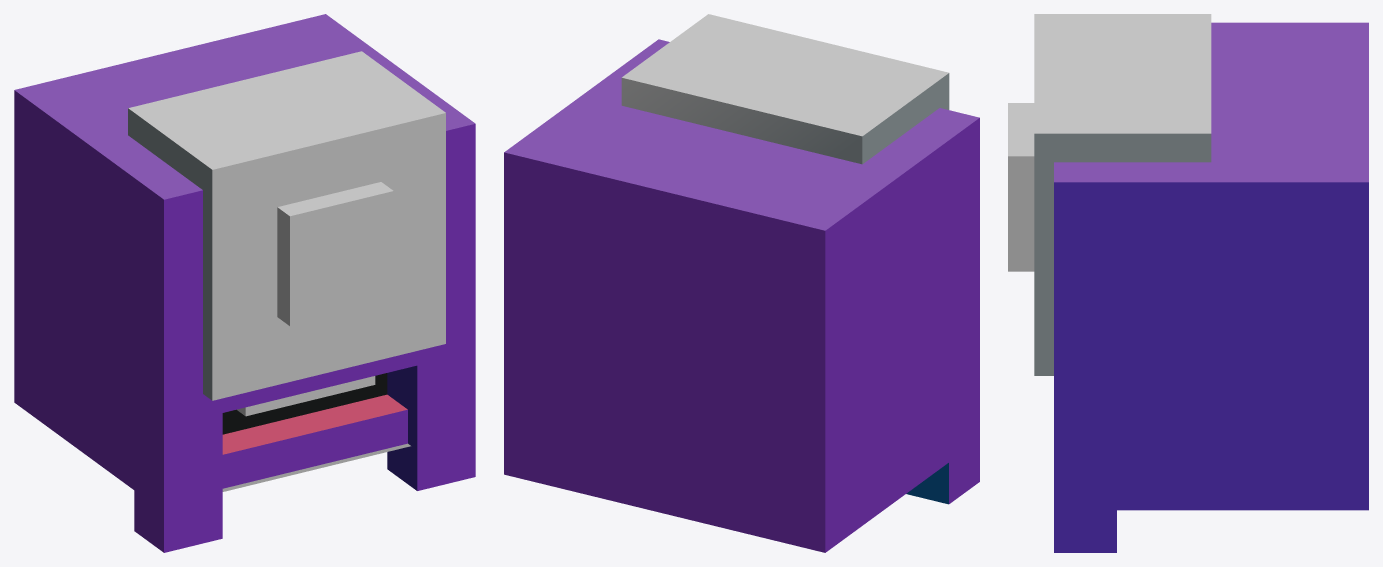
Rendered from EN_SneakyBit_Purple.fbx.
3 views of the same model, side by side, from view 1: azimuth 30°, elevation 25°; view 2: azimuth 150°, elevation 25°; view 3: azimuth 270°, elevation 25° (orthographic). The views are drawn at different scales.
Visible parts, largest first — view 1: Body, Eye, Pupil, Mouth, Shadow; view 2: Body, Eye; view 3: Body, Eye, Pupil.
Part boxes in pixels (bbox=[...]): Body: bbox=[14, 14, 475, 552]; Eye: bbox=[128, 51, 445, 400]; Pupil: bbox=[277, 182, 393, 325]; Mouth: bbox=[222, 394, 407, 488]; Shadow: bbox=[222, 443, 410, 491]; Body: bbox=[504, 39, 979, 552]; Eye: bbox=[621, 14, 949, 164]; Body: bbox=[1054, 22, 1368, 552]; Eye: bbox=[1034, 14, 1211, 375]; Pupil: bbox=[1008, 103, 1034, 271].
Size of the model in its own units: 48 by 56 by 45.84.
